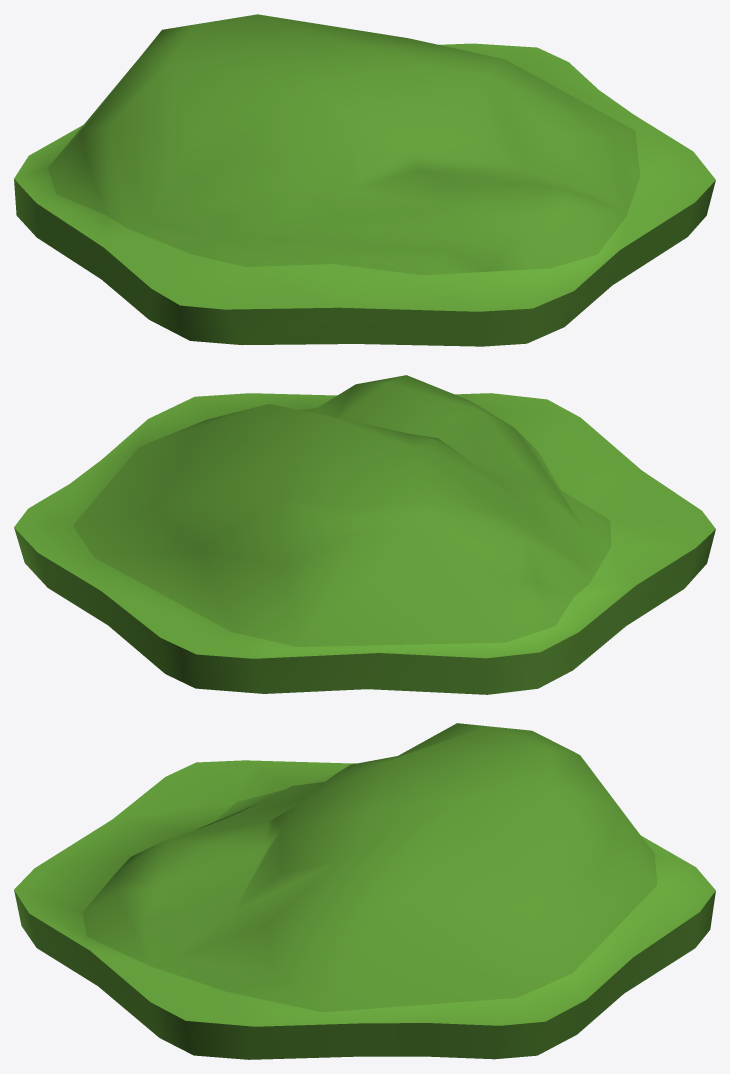
File: Hillside_Landscape00.fbx
3 renders of one model, top to bottom at view 1: azimuth 30°, elevation 25°; view 2: azimuth 150°, elevation 25°; view 3: azimuth 270°, elevation 25°, orthographic.
Parts seen in each view (by area): view 1: Hillside_Landscape00; view 2: Hillside_Landscape00; view 3: Hillside_Landscape00.
Part boxes in pixels (x1,y1,x2,y2): Hillside_Landscape00: (14, 14, 715, 346); Hillside_Landscape00: (14, 375, 715, 694); Hillside_Landscape00: (14, 723, 715, 1059).
Bounding box in the file's own units: 0.9193 × 0.2285 × 1.02.
